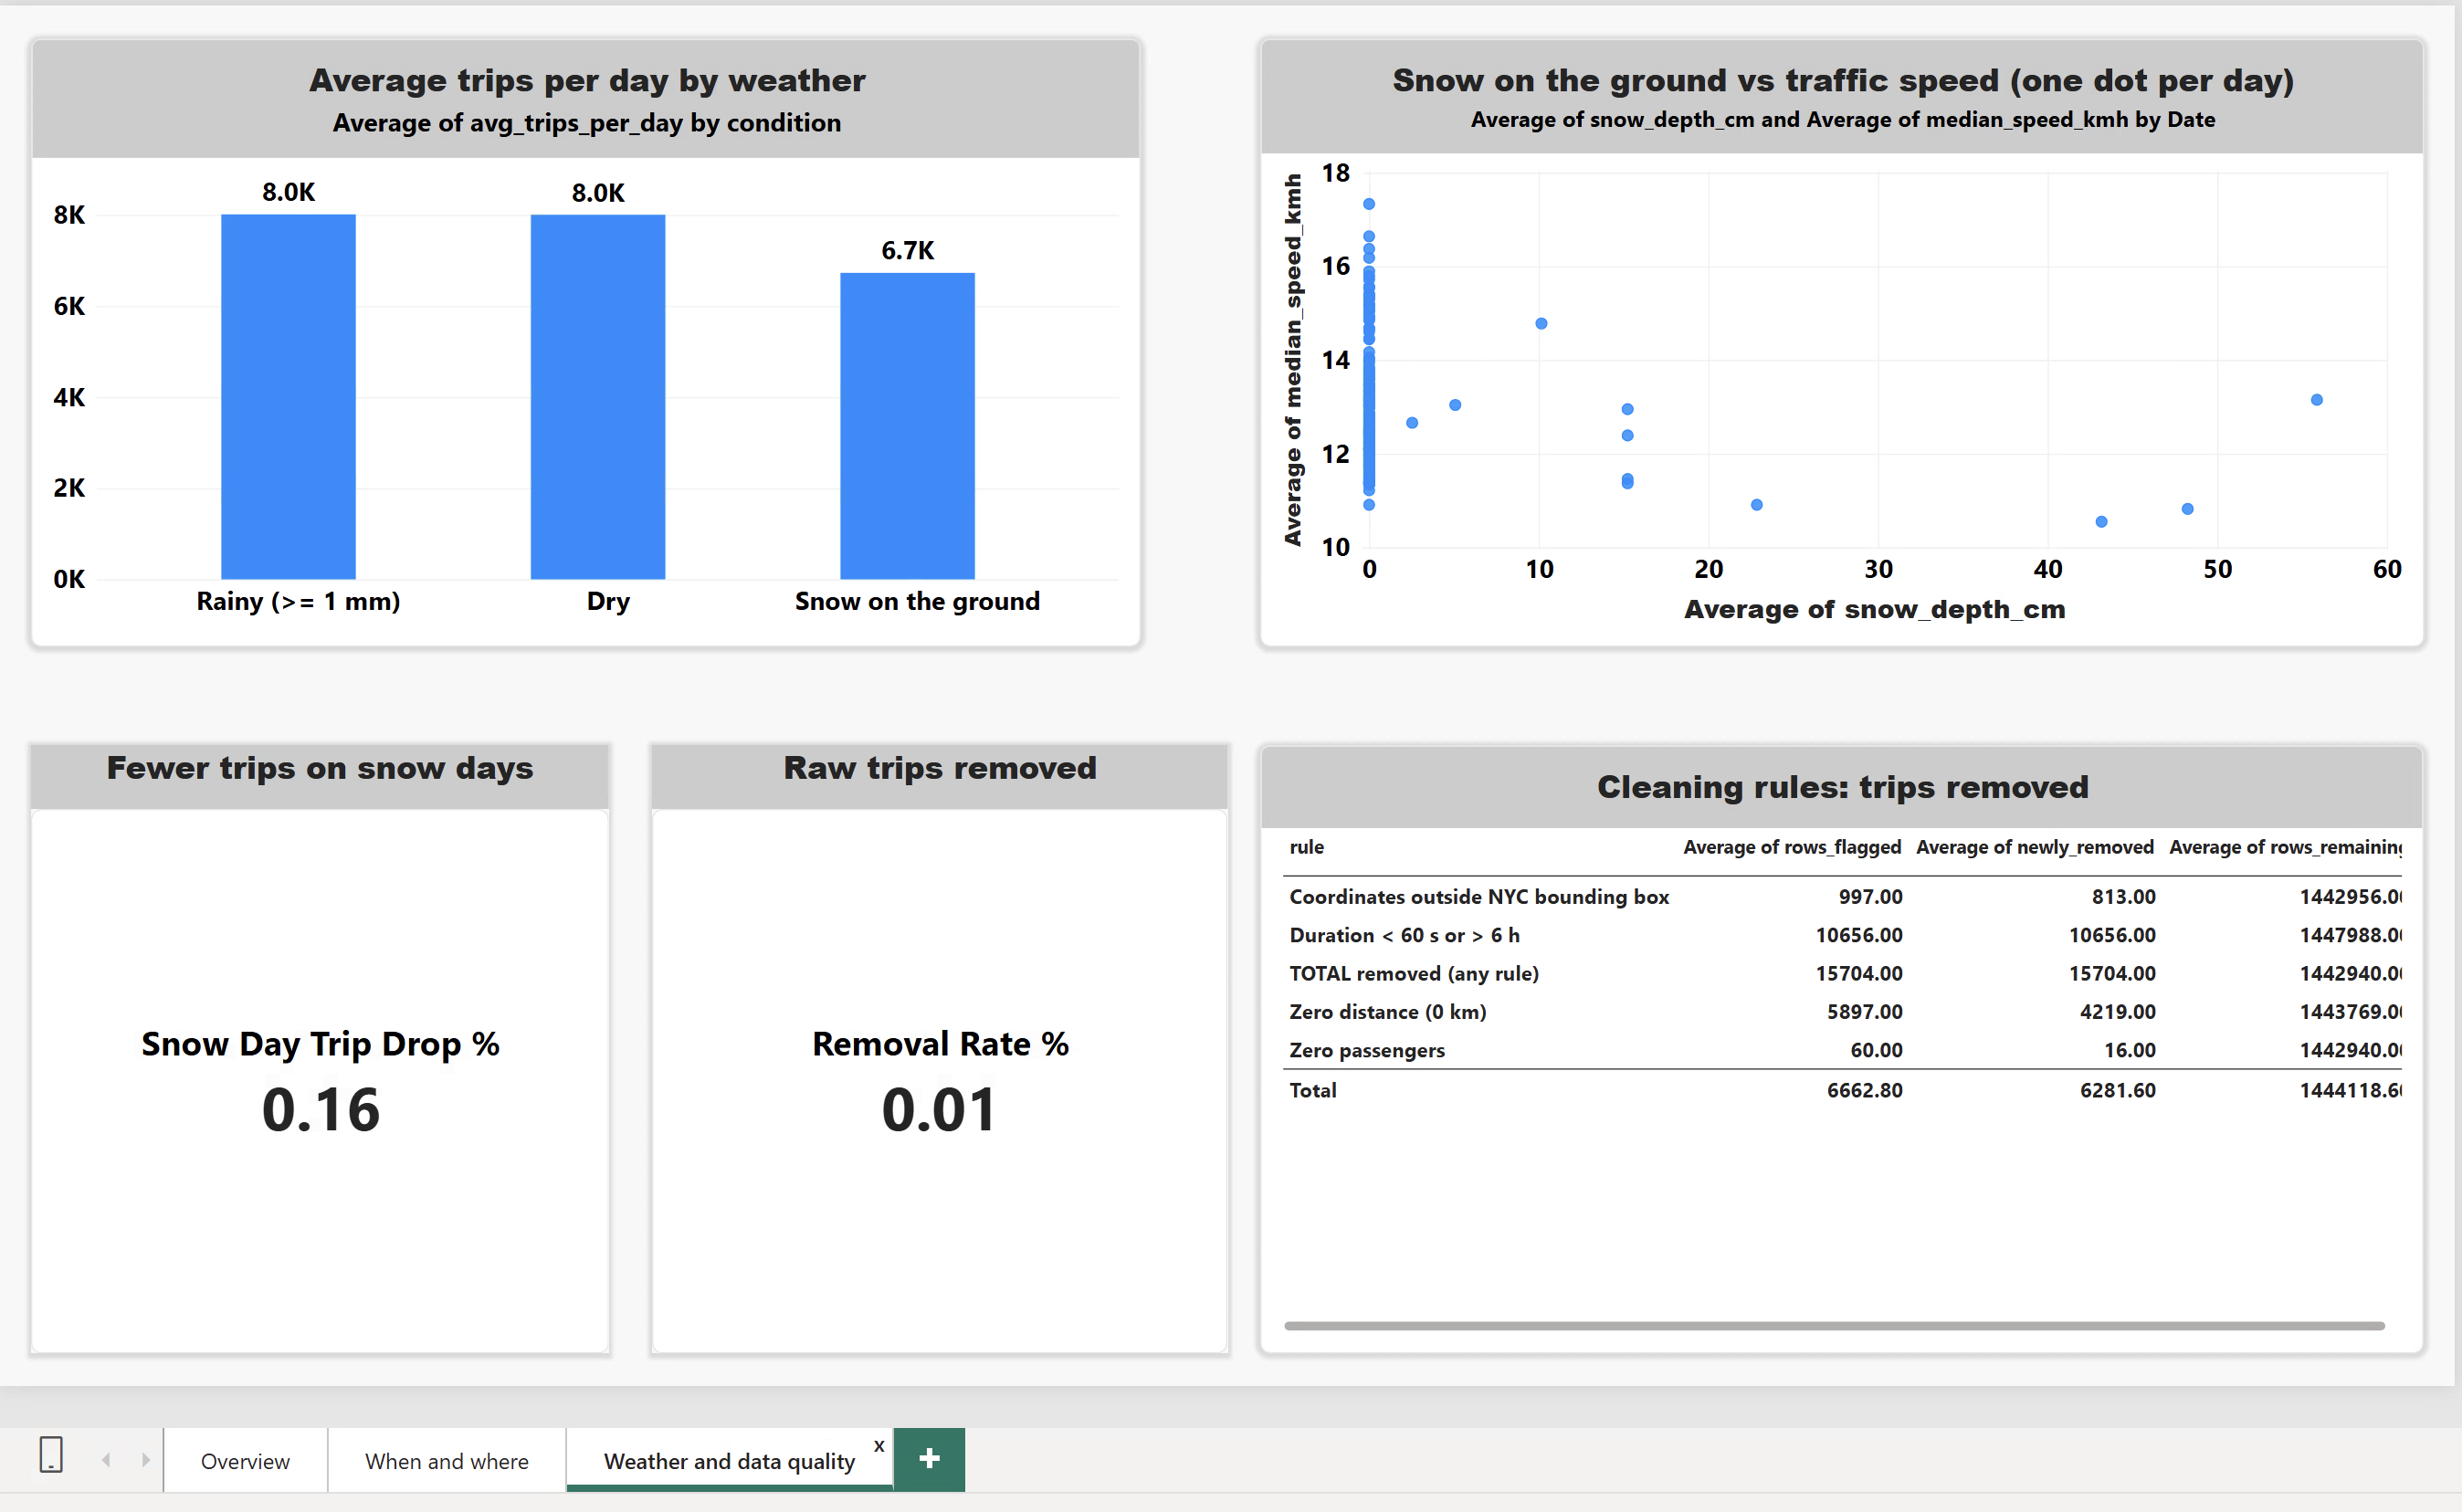

The page's visual inventory and layout, read from the dashboard file:
{"tool":"powerbi","page":{"name":"Weather and data quality","canvas":[1920,1080],"ordinal":2},"visuals":[{"type":"clusteredColumnChart","title":"Average trips per day by weather","fields":{"Category":["weather_impact.condition"],"Y":["Avg(weather_impact.avg_trips_per_day)"]},"box":[24.1,25.6,868.1,476.2],"z":0},{"type":"scatterChart","title":"Snow on the ground vs traffic speed (one dot per day)","fields":{"Category":["Dates.Date"],"X":["Avg(daily_kpis.snow_depth_cm)"],"Y":["Avg(daily_kpis.median_speed_kmh)"]},"box":[985.6,25.6,910.3,476.2],"z":1},{"type":"cardVisual","title":"Fewer trips on snow days","fields":{"Data":["daily_kpis.Snow Day Trip Drop %"]},"box":[24.1,578.7,452.1,476.2],"z":2},{"type":"cardVisual","title":"Raw trips removed","fields":{"Data":["daily_kpis.Removal Rate %"]},"box":[509.4,578.7,450.6,476.2],"z":3},{"type":"tableEx","title":"Cleaning rules: trips removed","fields":{"Values":["data_quality.rule","Avg(data_quality.rows_flagged)","Avg(data_quality.newly_removed)","Avg(data_quality.rows_remaining)"]},"box":[986,579,910,476],"z":4}]}

Visuals, with their boxes on the page's 1920x1080 design canvas (x1, y1, x2, y2). These are canvas units, not pixel positions in the 2462x1512 screenshot, which may show the page scaled, cropped or inside an application window:
"Average trips per day by weather" clusteredColumnChart: (24,26,892,502)
"Snow on the ground vs traffic speed (one dot per day)" scatterChart: (986,26,1896,502)
"Fewer trips on snow days" cardVisual: (24,579,476,1055)
"Raw trips removed" cardVisual: (509,579,960,1055)
"Cleaning rules: trips removed" tableEx: (986,579,1896,1055)
